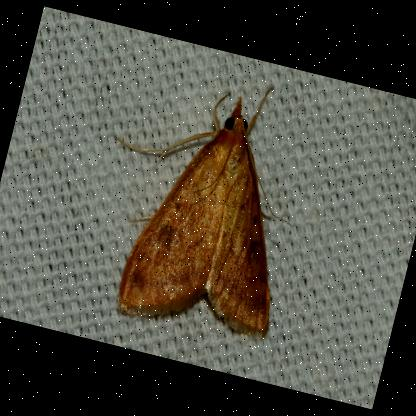Asian Corn Borer Moth: (72, 50, 329, 352)
